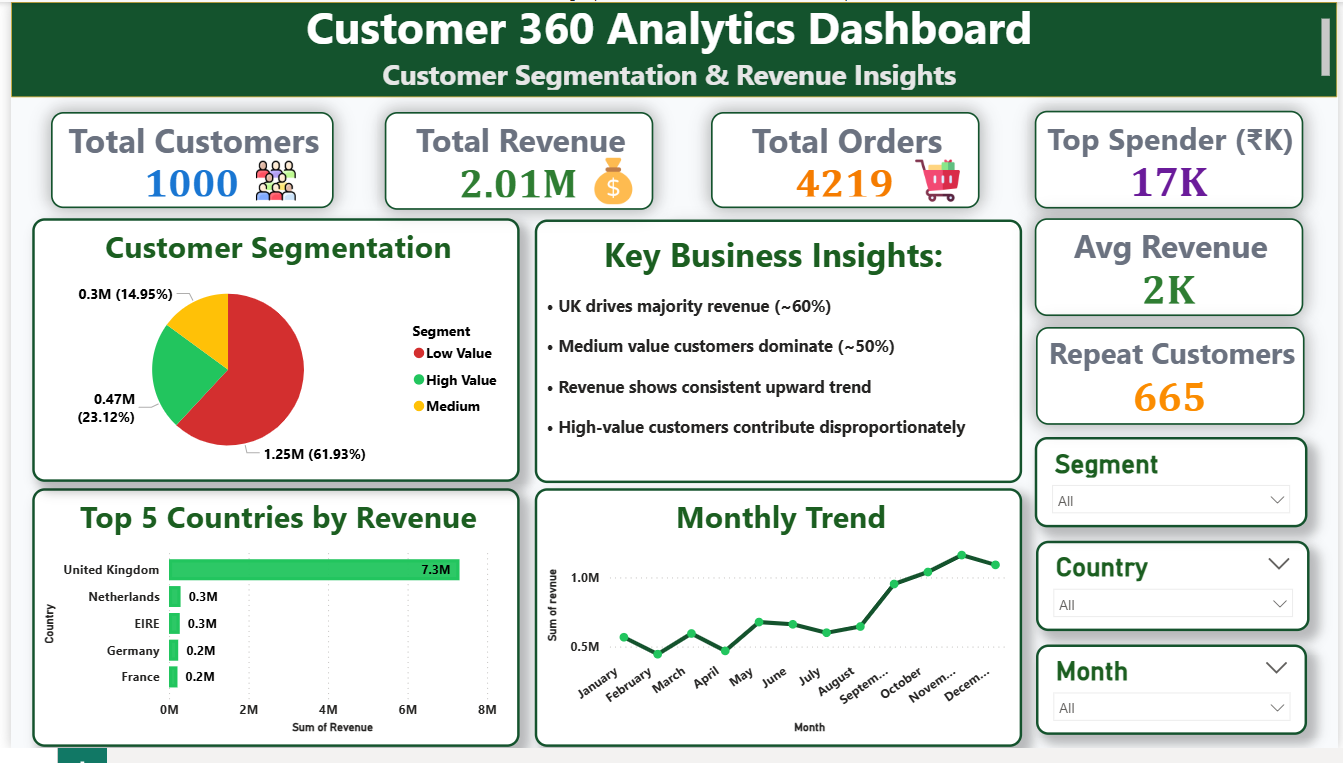

The dashboard page shown, as its layout file describes it:
{"tool":"powerbi","page":{"name":"Page 1","canvas":[1280,720],"ordinal":0},"visuals":[{"type":"card","title":"Total Customers","fields":{"Values":["Count(customer_360.customer_id)"]},"box":[38.6,106.2,272.7,92.9],"z":0},{"type":"card","title":"Total Orders","fields":{"Values":["Sum(customer_360.total_orders)"]},"box":[675.6,106.2,259.4,92.9],"z":1000},{"type":"card","title":"Avg Order Value (₹)","fields":{"Values":["Count(customer_360.customer_id)"]},"box":[629.8,219.6,293.2,94.1],"z":2000},{"type":"barChart","title":"Top 5 Countries by Revenue","fields":{"Category":["revenue_by_country.Country"],"Y":["Sum(revenue_by_country.Revenue)"]},"box":[20.5,469.3,470.5,249.7],"z":3000},{"type":"lineChart","title":"Monthly Trend","fields":{"Category":["monthly_trend.Month.Variation.Date Hierarchy.Month"],"Y":["Sum(monthly_trend.revnue)"]},"box":[505.5,469.3,470.5,249.7],"z":4000},{"type":"pieChart","title":"Customer Segmentation","fields":{"Category":["customer_360.Segment"],"Y":["Sum(customer_360.total_spent)"]},"box":[20.5,208.7,470.5,254.6],"z":5000},{"type":"textbox","box":[505.5,209.9,470.5,254.6],"z":6000},{"type":"slicer","fields":{"Values":["revenue_by_country.Country"]},"box":[989.3,520,264.2,86.9],"z":7000},{"type":"textbox","box":[0,0,1280,91.7],"z":8000},{"type":"slicer","fields":{"Values":["monthly_trend.Month.Variation.Date Hierarchy.Month"]},"box":[989.3,620.1,261.8,86.9],"z":9000},{"type":"slicer","fields":{"Values":["customer_360.Segment"]},"box":[988.1,419.8,263,86.9],"z":10000},{"type":"card","title":"Top Spender (₹K)","fields":{"Values":["customer_360.Top Customer"]},"box":[988.1,105,259.4,94.1],"z":11000},{"type":"image","box":[231.6,146,48.3,53.1],"z":12000},{"type":"image","box":[866.2,146,56.7,53.1],"z":13000},{"type":"card","title":"Total Revenue","fields":{"Values":["Sum(customer_360.total_spent)"]},"box":[360.7,106.2,259.4,94.1],"z":14000},{"type":"image","box":[552.5,142.4,57.9,61.5],"z":15000},{"type":"card","title":"Avg Revenue","fields":{"Values":["customer_360.Avg Revenue per Customer"]},"box":[988.1,208.7,259.4,94.1],"z":16000},{"type":"card","title":"Repeat Customers","fields":{"Values":["customer_360.Repeat_Customers"]},"box":[989.3,313.7,259.4,94.1],"z":17000}]}

Visuals, with their boxes in screenshot pixels (x1, y1, x2, y2), scaled from the page's 1280x720 canvas onto the 1343x763 screenshot:
"Total Customers" card: {"left": 40, "top": 113, "right": 327, "bottom": 211}
"Total Orders" card: {"left": 709, "top": 113, "right": 981, "bottom": 211}
"Avg Order Value (₹)" card: {"left": 661, "top": 233, "right": 968, "bottom": 332}
"Top 5 Countries by Revenue" barChart: {"left": 22, "top": 497, "right": 515, "bottom": 762}
"Monthly Trend" lineChart: {"left": 530, "top": 497, "right": 1024, "bottom": 762}
"Customer Segmentation" pieChart: {"left": 22, "top": 221, "right": 515, "bottom": 491}
textbox: {"left": 530, "top": 222, "right": 1024, "bottom": 492}
slicer - revenue_by_country.Country: {"left": 1038, "top": 551, "right": 1315, "bottom": 643}
textbox: {"left": 0, "top": 0, "right": 1342, "bottom": 97}
slicer - monthly_trend.Month.Variation.Date Hierarchy.Month: {"left": 1038, "top": 657, "right": 1313, "bottom": 749}
slicer - customer_360.Segment: {"left": 1037, "top": 445, "right": 1313, "bottom": 537}
"Top Spender (₹K)" card: {"left": 1037, "top": 111, "right": 1309, "bottom": 211}
image: {"left": 243, "top": 155, "right": 294, "bottom": 211}
image: {"left": 909, "top": 155, "right": 968, "bottom": 211}
"Total Revenue" card: {"left": 378, "top": 113, "right": 651, "bottom": 212}
image: {"left": 580, "top": 151, "right": 640, "bottom": 216}
"Avg Revenue" card: {"left": 1037, "top": 221, "right": 1309, "bottom": 321}
"Repeat Customers" card: {"left": 1038, "top": 332, "right": 1310, "bottom": 432}
